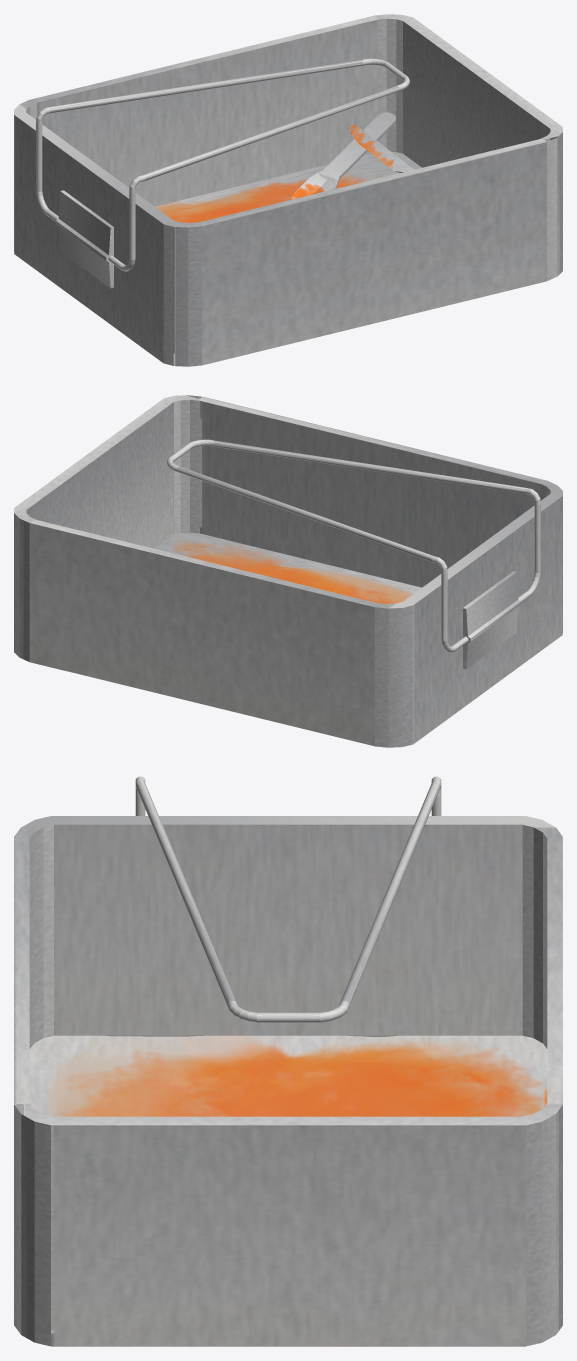
Rendered from 22T3_GAD174.2_VALENTINE_MAXv3.fbx.
3 views of the same model, one above another, from view 1: azimuth 30°, elevation 25°; view 2: azimuth 150°, elevation 25°; view 3: azimuth 270°, elevation 25° (orthographic). The views are drawn at different scales.
Parts seen in each view (by area): view 1: Tub, Bar, Back Plate, Spoon, Knife; view 2: Tub, Bar, Back Plate; view 3: Tub, Bar.
Part boxes in pixels (box(x1,y1,x2,y2)): Tub: box(14, 14, 562, 366); Bar: box(36, 58, 409, 271); Back Plate: box(56, 190, 113, 288); Spoon: box(291, 112, 396, 199); Knife: box(349, 124, 413, 172); Tub: box(14, 395, 562, 747); Bar: box(167, 439, 540, 652); Back Plate: box(463, 571, 520, 669); Tub: box(14, 816, 562, 1346); Bar: box(135, 776, 441, 1022).
Bounding box in the file's own units: 36.7 × 14.27 × 27.
1 material, 1 textured.
